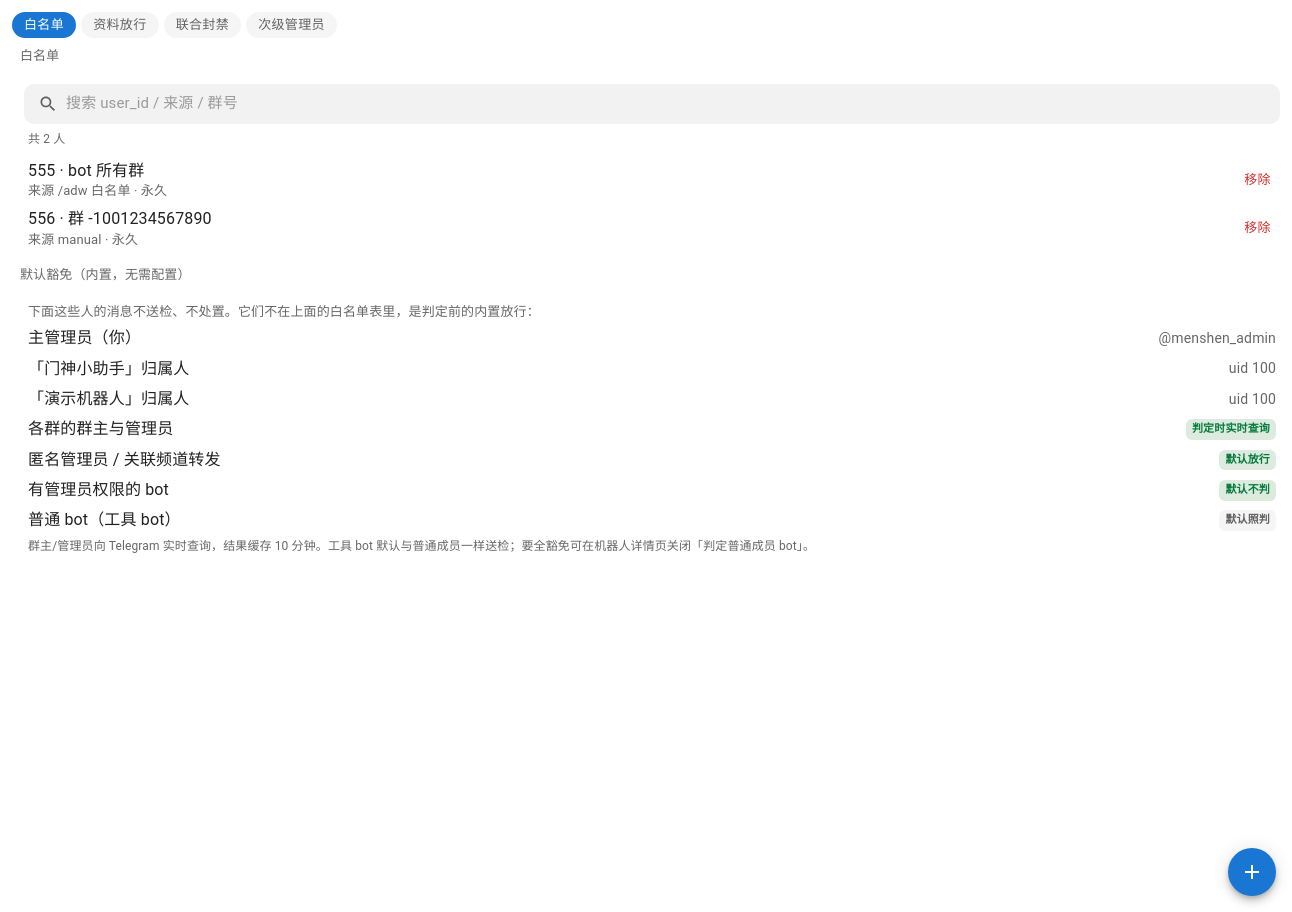
Test: ListsPage 四处搜索（本地过滤 + 焦点不丢） › 白名单：按 uid / 来源 / 群号过滤，输入焦点不丢
The image size is (1292, 912).
expect the text "555 · bot 所有群" is shown: met, box [28,161,144,180]
Type "555" into the field named "搜索白名单".
click(673, 104); type("555")  # box [66,84,1280,124]
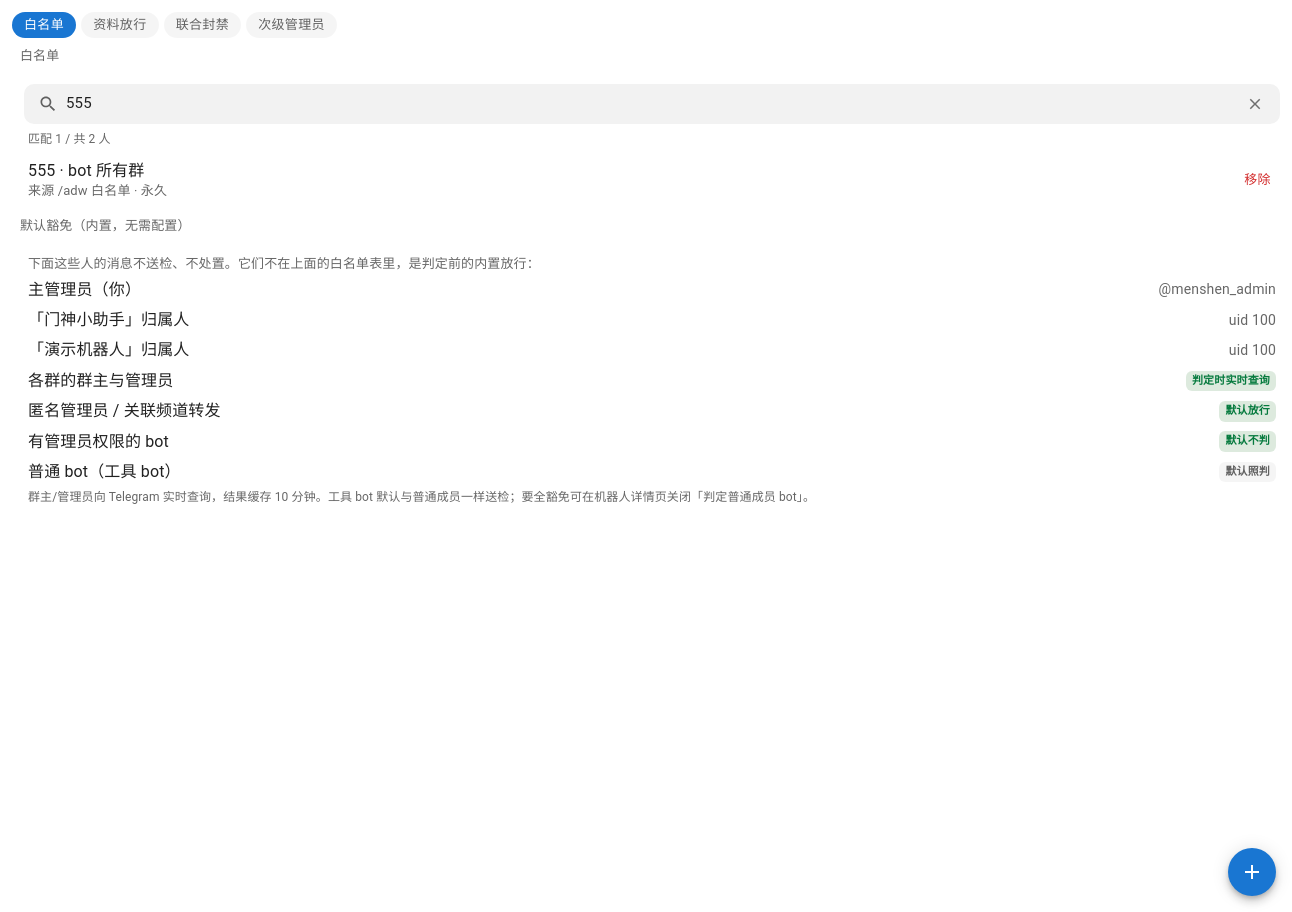
expect the text "555 · bot 所有群" is shown: met, box [28,161,144,180]
expect the text "556 · 群 -1001234567890" is gone: met
Replace the text in the field named "搜索白名单" with "manual" at (650, 104), box [66,84,1233,124]
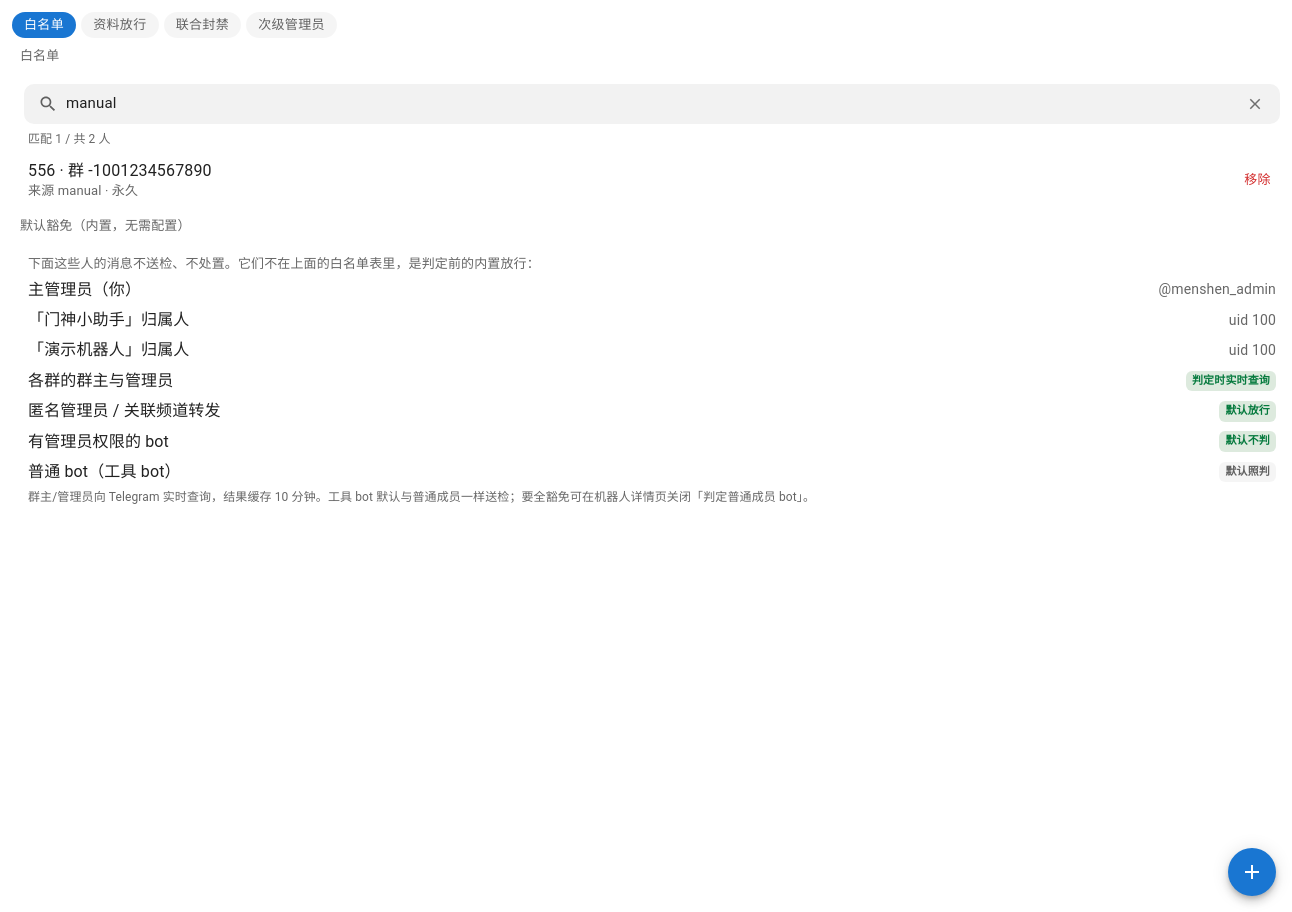
expect the text "556 · 群 -1001234567890" is shown: met, box [28,161,212,180]
expect the text "555 · bot 所有群" is gone: met
Replace the text in the field named "搜索白名单" with "-1001234567890" at (650, 104), box [66,84,1233,124]
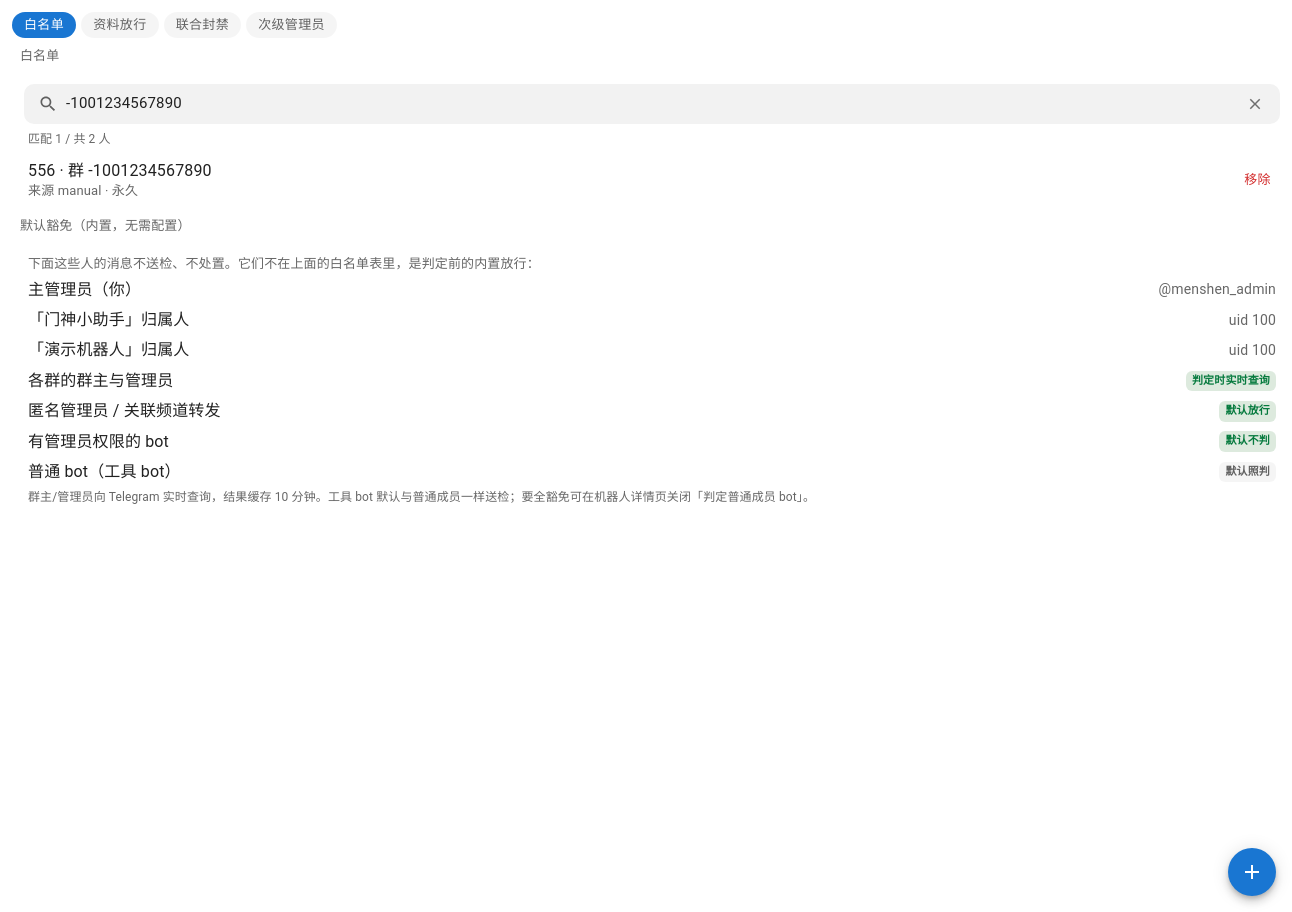
expect the text "555 · bot 所有群" is not shown: met
expect the text "556 · 群 -1001234567890" is shown: met, box [28,161,212,180]
Replace the text in the field named "搜索白名单" with "没有这个人" at (650, 104), box [66,84,1233,124]
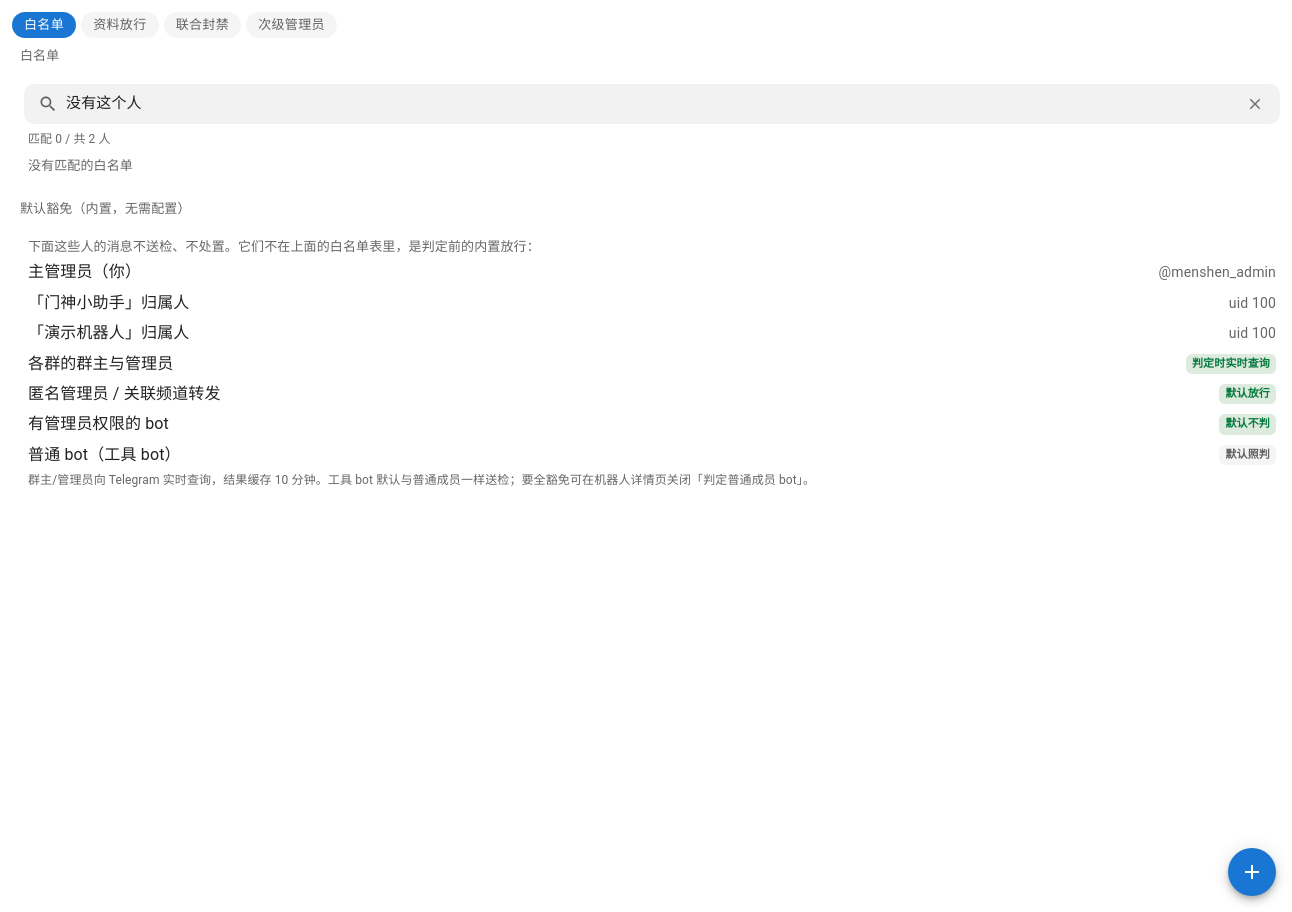
expect the text "没有匹配的白名单" is shown: met, box [28,158,133,173]
